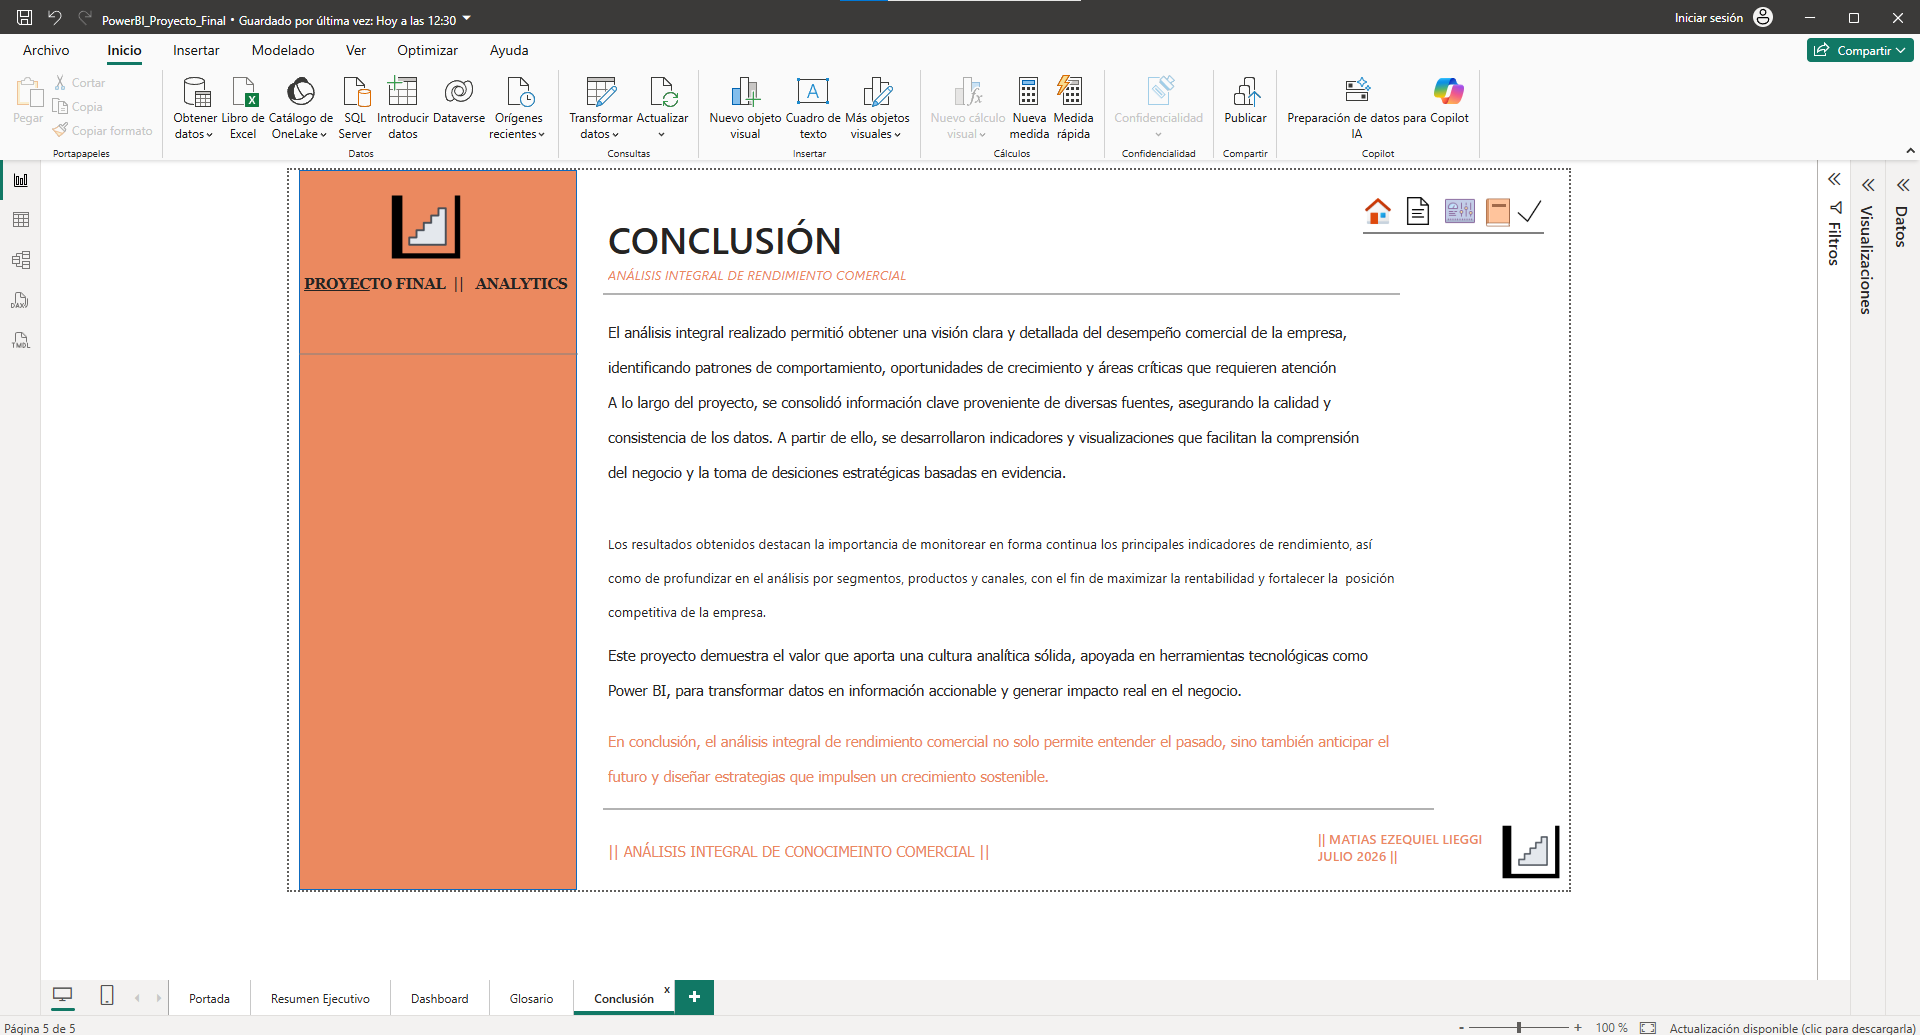

What the dashboard file says about the page in this screenshot:
{"tool":"powerbi","page":{"name":"Conclusión","canvas":[1280,720],"ordinal":4},"visuals":[{"type":"shape","box":[10.3,0,277.8,720.3],"z":0},{"type":"image","box":[94.7,7.2,83.6,100.2],"z":0,"group":"g1"},{"type":"image","box":[1206.9,643.1,70.4,76.7],"z":0,"group":"g2"},{"type":"image","box":[106.8,37.7,62.2,38.9],"z":1000,"group":"g1"},{"type":"textbox","box":[10.3,99.8,277.8,48.4],"z":1000},{"type":"image","box":[1217.1,666.4,52.4,29.8],"z":1000,"group":"g2"},{"type":"group","id":"g1","title":"Grupo 1","box":[94.7,7.2,84.4,100.8],"z":2000},{"type":"shape","box":[10.3,77.2,278.8,214],"z":3000},{"type":"textbox","box":[313.8,39.1,309.7,68.9],"z":4000},{"type":"textbox","box":[313.8,90.5,319,60.7],"z":5000},{"type":"shape","box":[313.8,19.5,797.4,208.9],"z":6000},{"type":"textbox","box":[313.8,148.2,797.4,185.2],"z":7000},{"type":"textbox","box":[313.8,360.1,797.4,102.9],"z":8000},{"type":"textbox","box":[313.8,471.3,797.4,133.8],"z":9000},{"type":"textbox","box":[313.8,556.7,797.4,163.6],"z":10000},{"type":"shape","box":[313.8,588.6,831.4,100.8],"z":11000},{"type":"group","id":"g2","title":"Grupo 1","box":[1206.9,643.1,70,77.2],"z":12000},{"type":"textbox","box":[1023.8,655.4,183.2,56.6],"z":13000},{"type":"textbox","box":[313.8,666.8,415.7,36],"z":14000},{"type":"image","box":[1074.2,20.6,30.1,41],"z":15000},{"type":"image","box":[1113.8,19.5,30.1,41],"z":16000},{"type":"image","box":[1193.4,22.1,30.1,41],"z":17000},{"type":"image","box":[1225.4,20,30.1,41],"z":18000},{"type":"image","box":[1155.6,19.9,30.1,42],"z":19000},{"type":"shape","box":[1074.2,54.5,181.1,16.5],"z":20000}]}

Visuals, with their boxes on the page's 1280x720 design canvas (x1, y1, x2, y2). These are canvas units, not pixel positions in the 1920x1035 screenshot, which may show the page scaled, cropped or inside an application window:
shape: <box>10,0,288,720</box>
image: <box>95,7,178,107</box>
image: <box>1207,643,1277,720</box>
image: <box>107,38,169,77</box>
textbox: <box>10,100,288,148</box>
image: <box>1217,666,1270,696</box>
"Grupo 1" group: <box>95,7,179,108</box>
shape: <box>10,77,289,291</box>
textbox: <box>314,39,624,108</box>
textbox: <box>314,90,633,151</box>
shape: <box>314,20,1111,228</box>
textbox: <box>314,148,1111,333</box>
textbox: <box>314,360,1111,463</box>
textbox: <box>314,471,1111,605</box>
textbox: <box>314,557,1111,720</box>
shape: <box>314,589,1145,689</box>
"Grupo 1" group: <box>1207,643,1277,720</box>
textbox: <box>1024,655,1207,712</box>
textbox: <box>314,667,730,703</box>
image: <box>1074,21,1104,62</box>
image: <box>1114,20,1144,60</box>
image: <box>1193,22,1224,63</box>
image: <box>1225,20,1256,61</box>
image: <box>1156,20,1186,62</box>
shape: <box>1074,54,1255,71</box>
